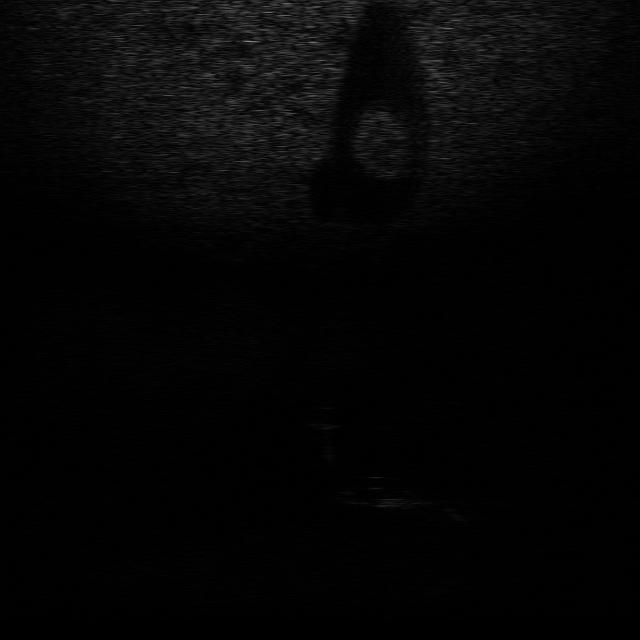ball: (299, 400, 346, 432)
tyre: (332, 478, 428, 510)
